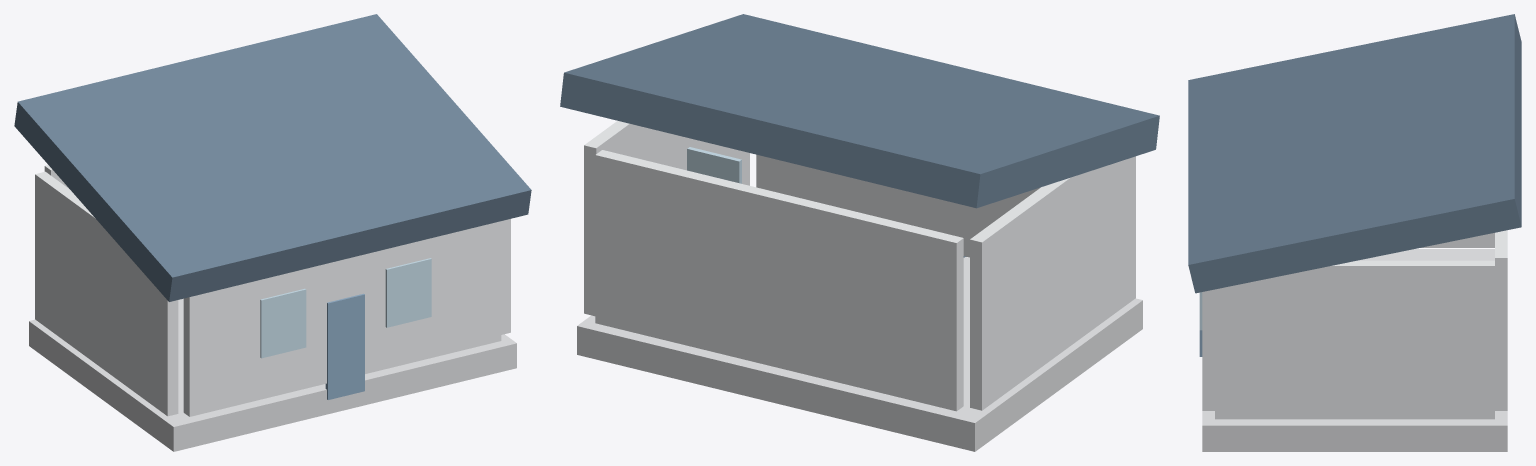
The model's file is HOUSE_COASTAL_COTTAGE_SHELL_TEST.glb.
3 views of the same model, side by side, from view 1: azimuth 30°, elevation 25°; view 2: azimuth 150°, elevation 25°; view 3: azimuth 270°, elevation 25° (orthographic). The views are drawn at different scales.
Parts seen in each view (by area): view 1: SHELL_ROOF_GABLE, SHELL_WALL_FRONT, SHELL_WALL_LEFT, SHELL_FOUNDATION, SHELL_DOOR_FRONT, SHELL_WINDOW_01, SHELL_WINDOW_02, SHELL_WALL_RIGHT; view 2: SHELL_WALL_BACK, SHELL_ROOF_GABLE, SHELL_WALL_LEFT, SHELL_FOUNDATION, SHELL_WALL_FRONT, SHELL_WALL_RIGHT, SHELL_WINDOW_03; view 3: SHELL_ROOF_GABLE, SHELL_WALL_RIGHT, SHELL_FOUNDATION, SHELL_WALL_BACK, SHELL_WALL_FRONT, SHELL_WALL_LEFT.
Boxes of the visible parts, x1,y1,x2,y2 form: SHELL_ROOF_GABLE: [14, 14, 531, 301]; SHELL_WALL_FRONT: [183, 221, 501, 416]; SHELL_WALL_LEFT: [35, 171, 178, 416]; SHELL_FOUNDATION: [29, 298, 516, 451]; SHELL_DOOR_FRONT: [325, 293, 364, 399]; SHELL_WINDOW_01: [260, 288, 306, 358]; SHELL_WINDOW_02: [385, 258, 431, 327]; SHELL_WALL_RIGHT: [501, 219, 510, 334]; SHELL_WALL_BACK: [595, 150, 963, 411]; SHELL_ROOF_GABLE: [560, 14, 1159, 208]; SHELL_WALL_LEFT: [970, 156, 1135, 410]; SHELL_FOUNDATION: [577, 257, 1142, 451]; SHELL_WALL_FRONT: [756, 154, 1040, 257]; SHELL_WALL_RIGHT: [584, 121, 749, 316]; SHELL_WINDOW_03: [687, 147, 741, 183]; SHELL_ROOF_GABLE: [1188, 14, 1521, 293]; SHELL_WALL_RIGHT: [1215, 260, 1494, 419]; SHELL_FOUNDATION: [1202, 249, 1507, 451]; SHELL_WALL_BACK: [1495, 230, 1507, 410]; SHELL_WALL_FRONT: [1202, 289, 1214, 410]; SHELL_WALL_LEFT: [1421, 233, 1494, 247].
Size of the model in its own units: 5.44 by 3.53 by 4.15.
